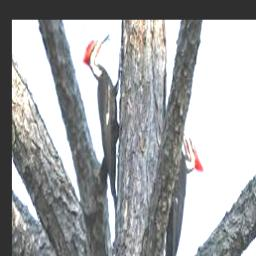Woodpecker: (83, 34, 123, 210), (164, 120, 204, 256)
